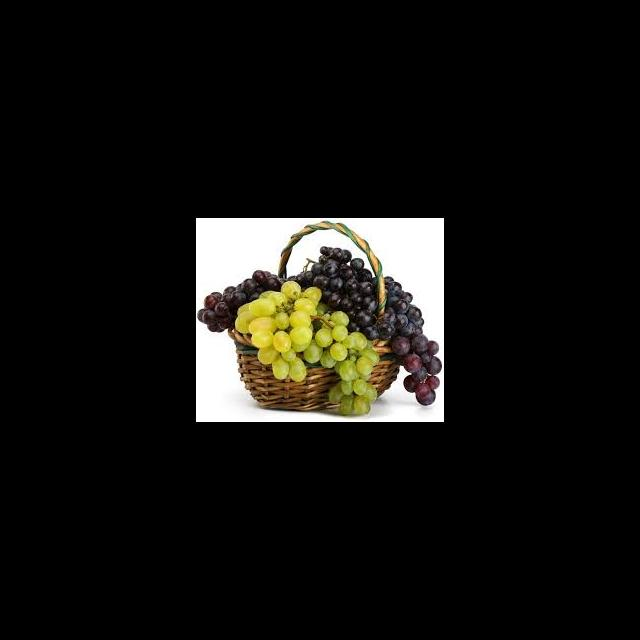grape: (318, 251, 433, 399), (245, 286, 361, 377)
